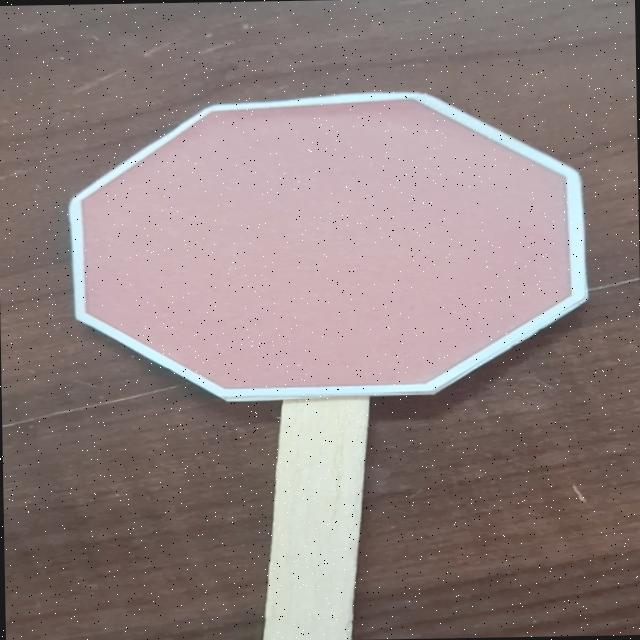Stop: (60, 78, 606, 413)
